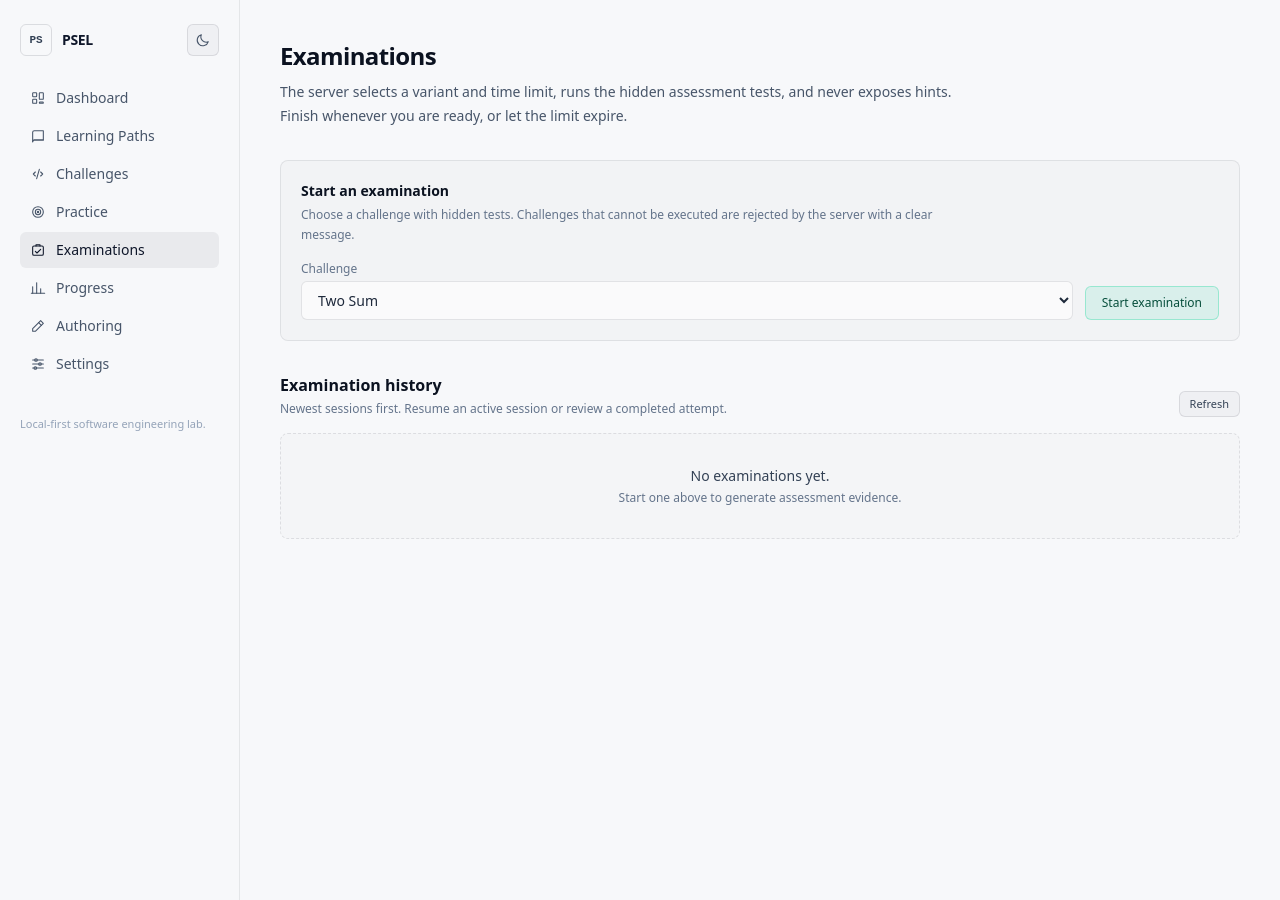
Test: ExaminationsPage › shows the server rejection when an examination cannot start
Expected: the heading "Examinations" is shown, [280,39,436,72]
Click the button "Start examination": (1152, 303) [1085,286,1219,320]
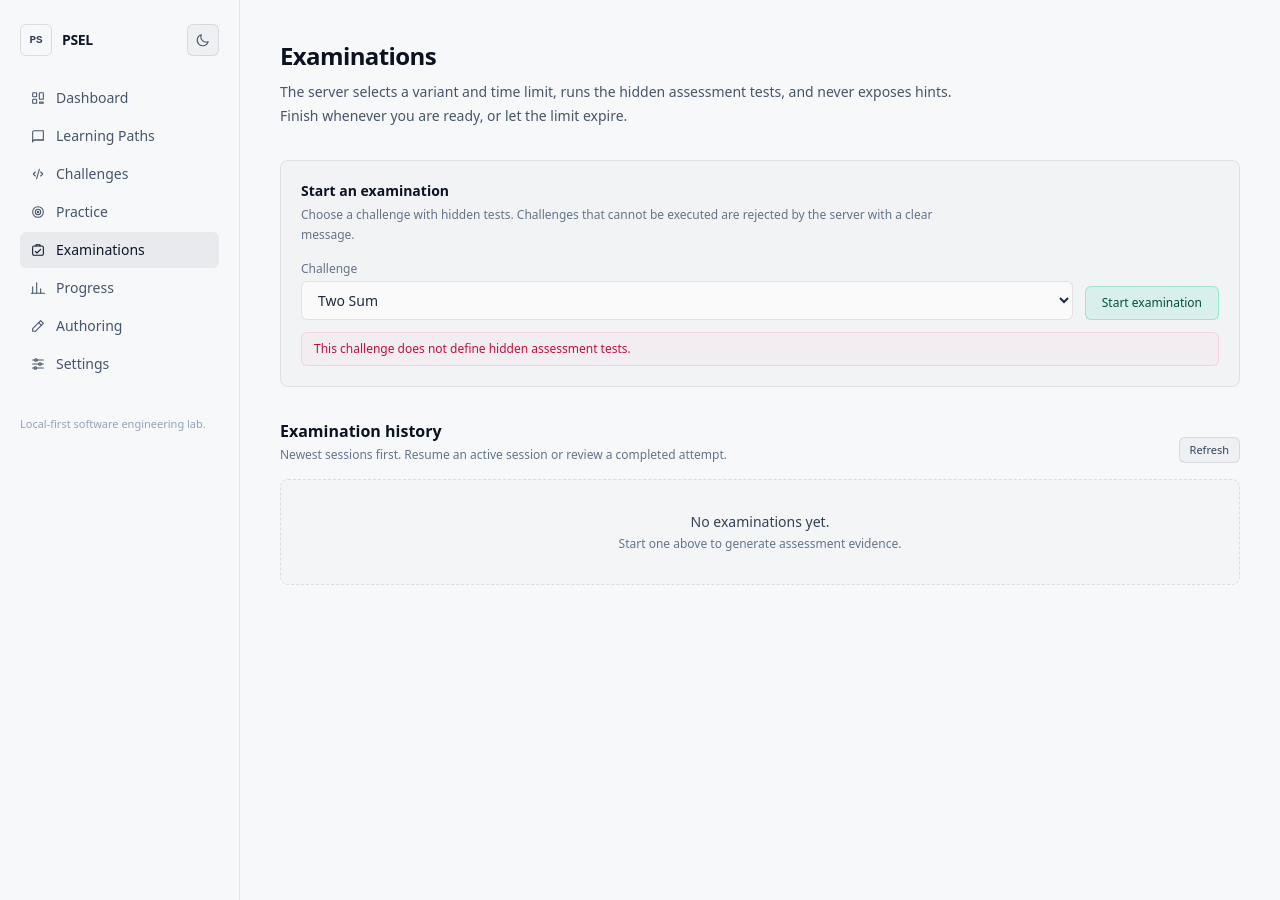
Result: the message reads "This challenge does not define hidden assessment tests." at [314,340,631,357]
